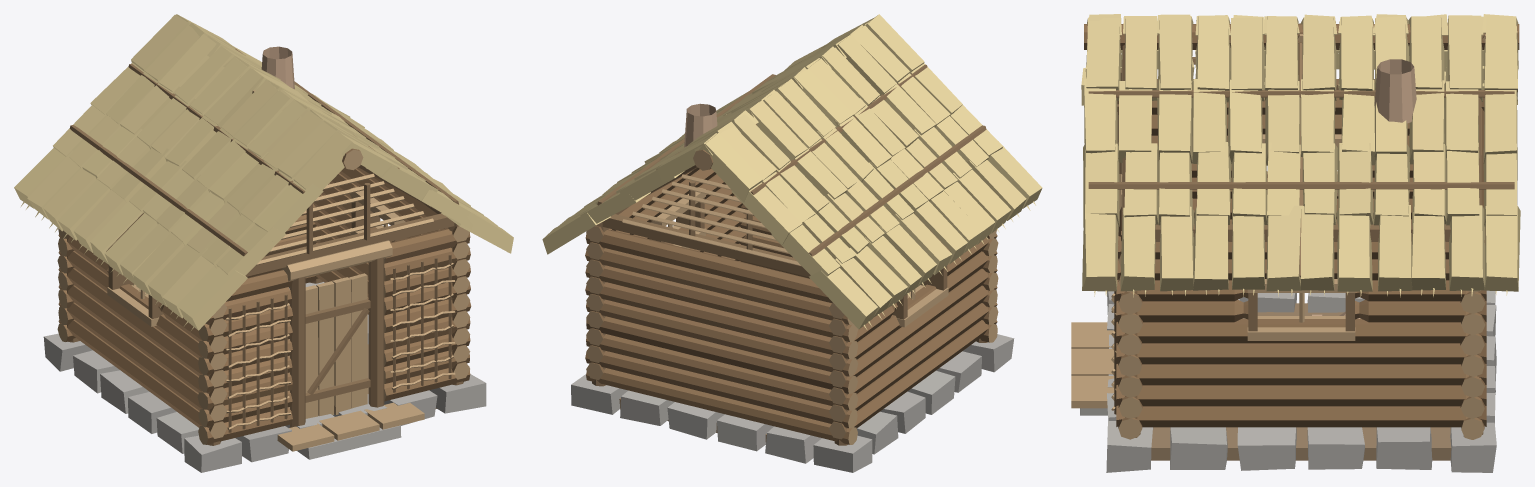
The model's file is building_oven_house_complete.glb.
The picture shows the model from 3 angles, left to right: view 1: azimuth 30°, elevation 25°; view 2: azimuth 150°, elevation 25°; view 3: azimuth 270°, elevation 25°; orthographic projection. The views are drawn at different scales.
Parts seen in each view (by area): view 1: building_oven_house_complete; view 2: building_oven_house_complete; view 3: building_oven_house_complete.
Part boxes in pixels (left/top/right/bottom): building_oven_house_complete: left=14, top=14, right=513, bottom=472; building_oven_house_complete: left=542, top=14, right=1042, bottom=472; building_oven_house_complete: left=1071, top=14, right=1520, bottom=472.
Size of the model in its own units: 3.97 by 3.56 by 3.88.
